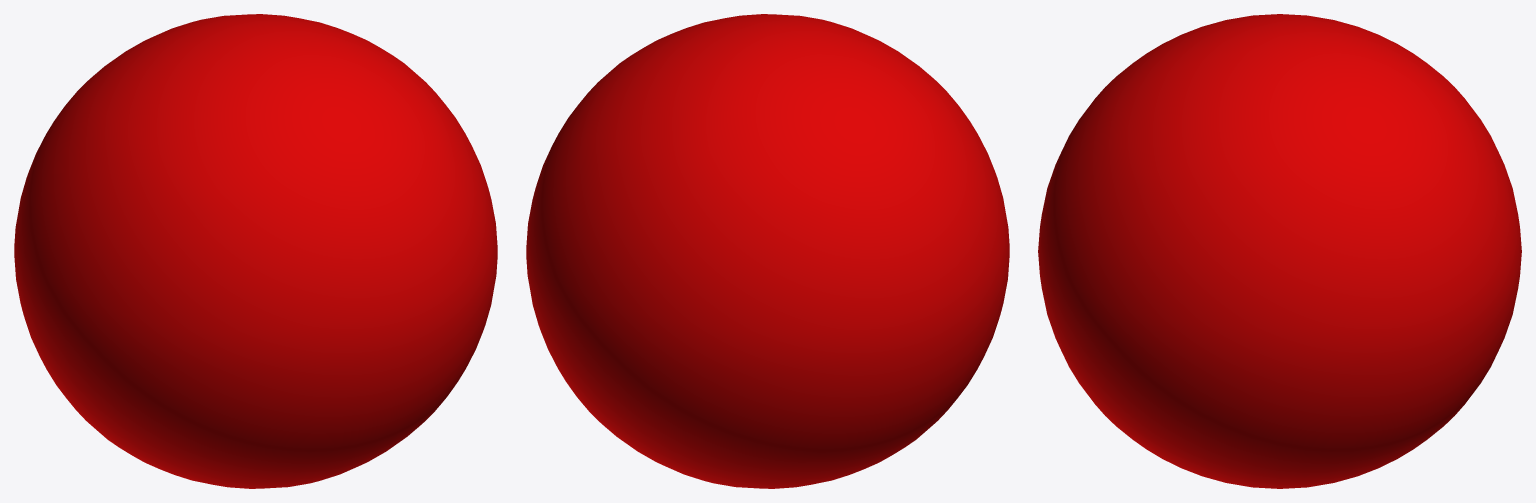
File: ClearCoatCarPaint.gltf
The picture shows the model from 3 angles, left to right: view 1: azimuth 30°, elevation 25°; view 2: azimuth 150°, elevation 25°; view 3: azimuth 270°, elevation 25°; orthographic projection.
Parts seen in each view (by area): view 1: Sphere; view 2: Sphere; view 3: Sphere.
Part boxes in pixels (left/top/right/bottom): Sphere: left=14, top=14, right=497, bottom=488; Sphere: left=526, top=14, right=1009, bottom=488; Sphere: left=1038, top=14, right=1521, bottom=488.
Size of the model in its own units: 1 by 0.9803 by 1.
